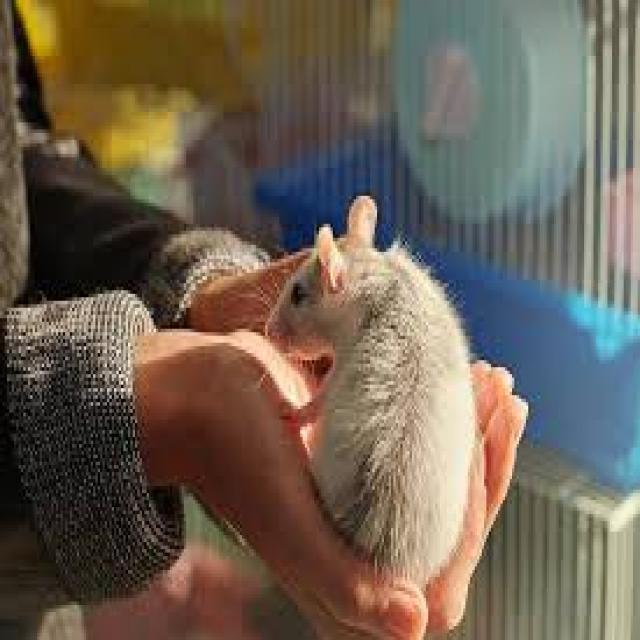Rat: (253, 196, 489, 608)
